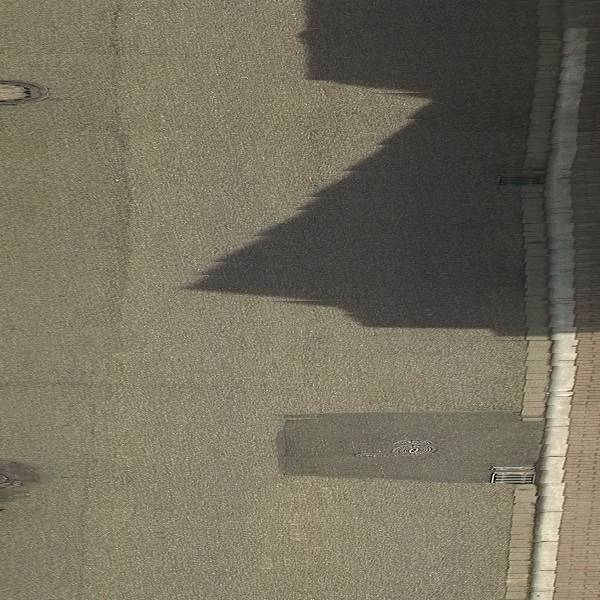road_damage: (256, 394, 489, 500)
